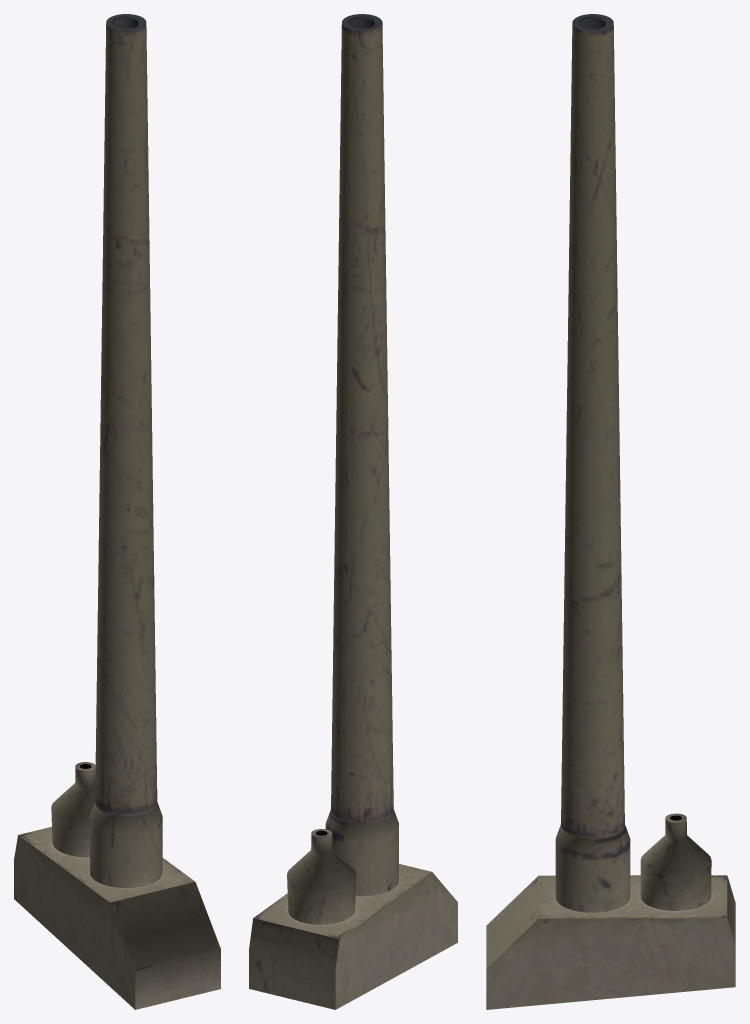
Rendered from Gun_01.glb.
The picture shows the model from 3 angles, left to right: view 1: azimuth 30°, elevation 25°; view 2: azimuth 150°, elevation 25°; view 3: azimuth 270°, elevation 25°; orthographic projection. The views are drawn at different scales.
Parts seen in each view (by area): view 1: set_0_group_0; view 2: set_0_group_0; view 3: set_0_group_0.
Part boxes in pixels (x1=…): set_0_group_0: x1=14, y1=14, x2=220, y2=1009; set_0_group_0: x1=249, y1=14, x2=457, y2=1009; set_0_group_0: x1=486, y1=14, x2=735, y2=1009.
Size of the model in its own units: 0.1737 by 1.82 by 0.4261.
1 material, 1 textured.
